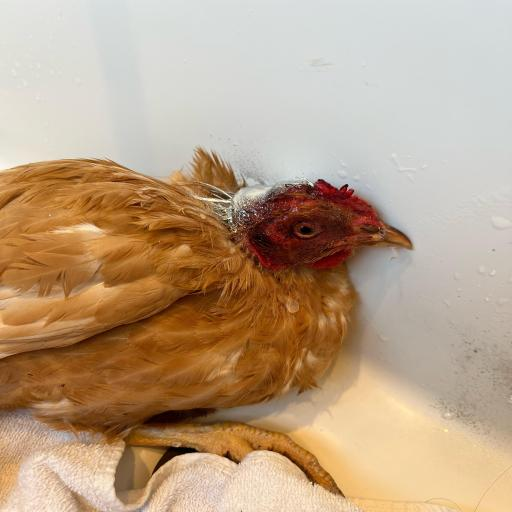disease: (222, 137, 426, 285)
